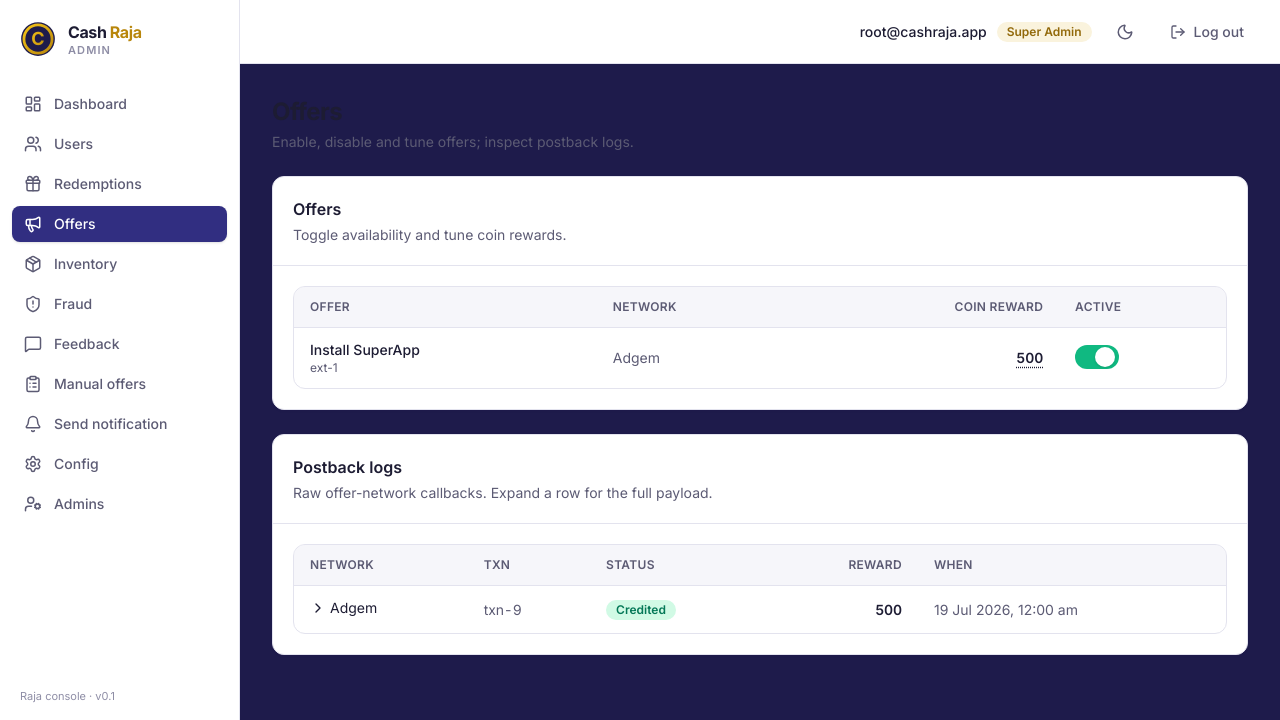
Test: Offers screen › toggles an offer active flag
Expected: the text "Install SuperApp" is shown, x1=310 y1=341 x2=420 y2=358
Click the switch named "Toggle Install SuperApp": (1097, 356) x1=1075 y1=344 x2=1119 y2=368
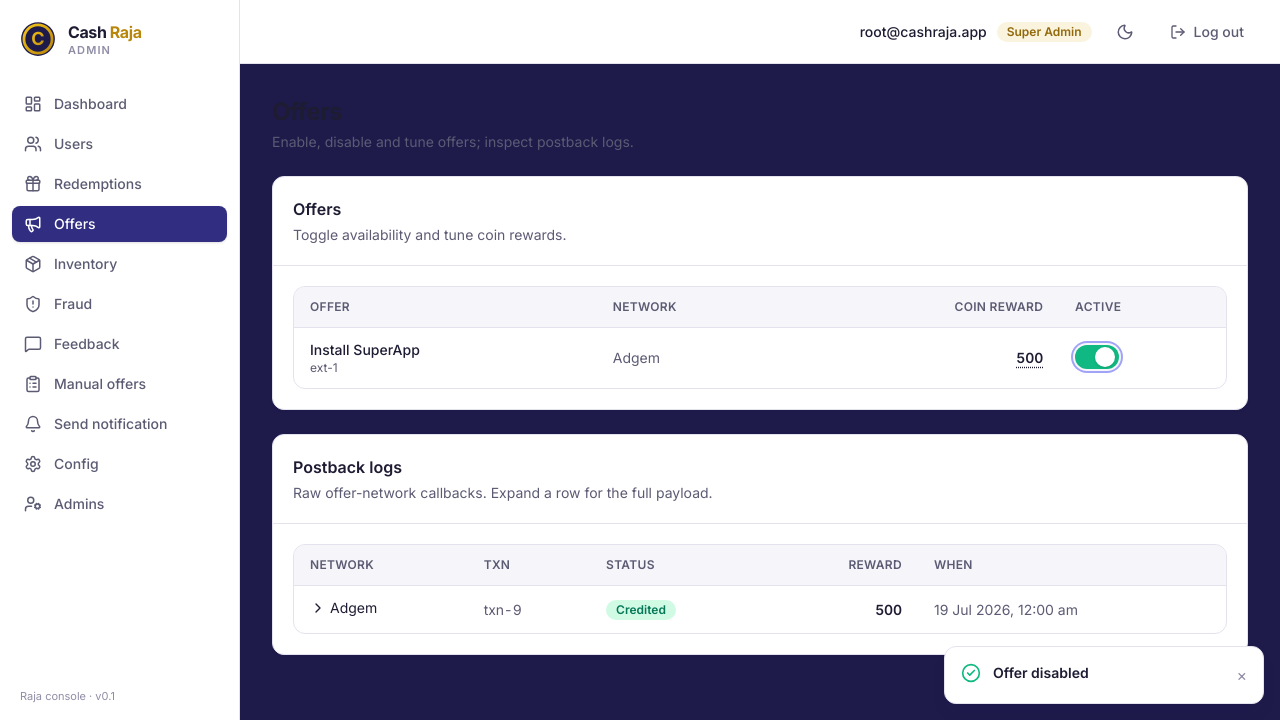
Now the text "Offer disabled" is shown, box x1=993 y1=664 x2=1089 y2=681
